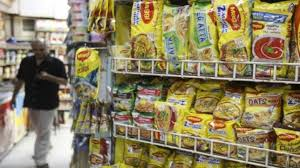maggie: (216, 3, 252, 74), (132, 3, 161, 71), (182, 115, 206, 148)
